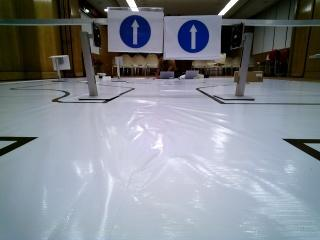straight: (109, 6, 164, 54), (166, 18, 220, 58)
